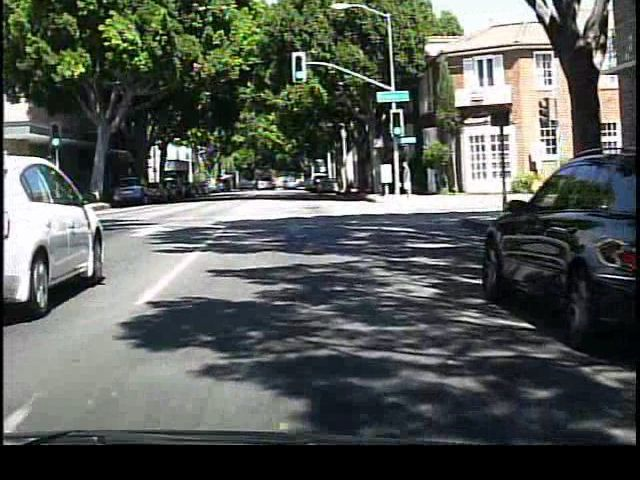person: (399, 157, 418, 203)
